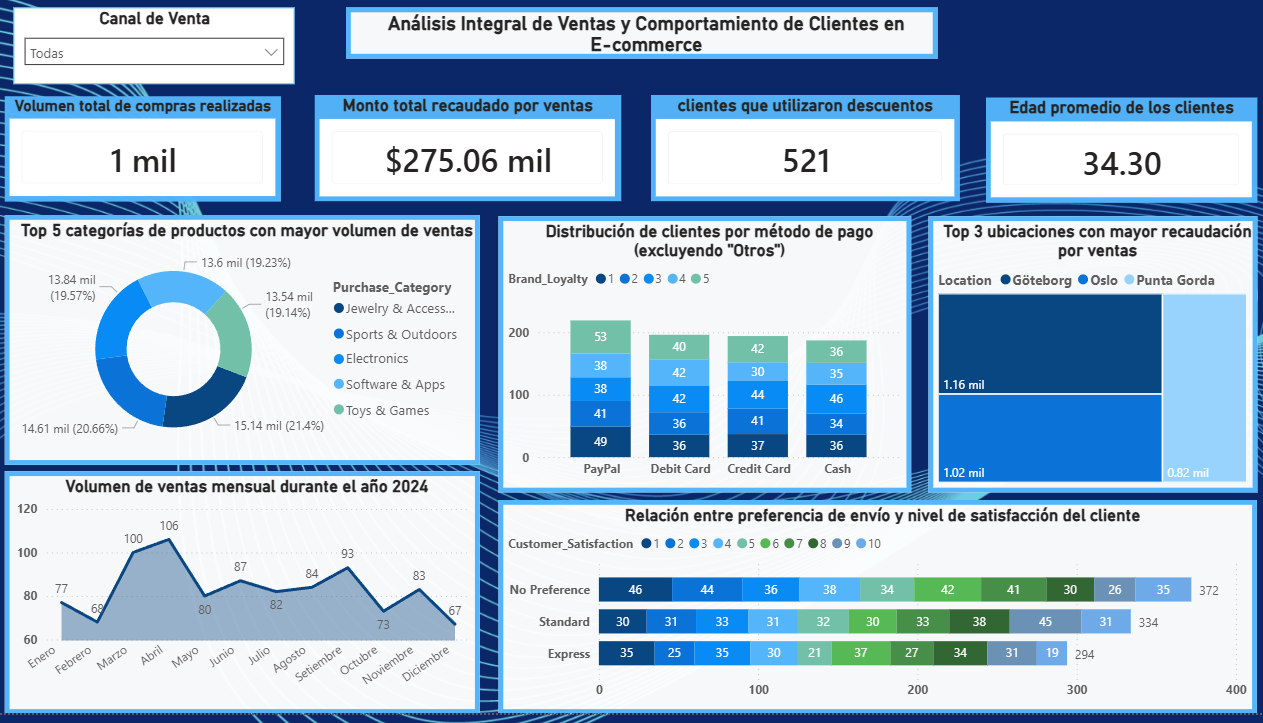

The page's visual inventory and layout, read from the dashboard file:
{"tool":"powerbi","page":{"name":"Analisis Ecommerce","canvas":[1280,720],"ordinal":0},"visuals":[{"type":"cardVisual","title":"Volumen total de compras realizadas","fields":{"Data":["ecommerce_amazon.consumidores"]},"box":[13.8,101.5,276.8,105.2],"z":0},{"type":"cardVisual","title":"Monto total recaudado por ventas","fields":{"Data":["ecommerce_amazon.recaudacion"]},"box":[324.4,100.2,306.9,106.5],"z":1000},{"type":"cardVisual","title":" clientes que utilizaron descuentos","fields":{"Data":["ecommerce_amazon.cantidad_descuento"]},"box":[661.4,100.2,309.4,106.5],"z":2000},{"type":"cardVisual","title":"Edad promedio de los clientes","fields":{"Data":["ecommerce_amazon.promedio_edad"]},"box":[997.1,102.7,271.8,105.2],"z":2001},{"type":"donutChart","title":"Top 5 categorías de productos con mayor volumen de ventas","fields":{"Category":["ecommerce_amazon.Purchase_Category"],"Y":["ecommerce_amazon.recaudacion"]},"box":[13.8,220.5,476,250.5],"z":2002},{"type":"lineChart","title":"Volumen de ventas mensual durante el año 2024","fields":{"Category":["ecommerce_amazon.Time_of_Purchase.Variación.Jerarquía de fechas.Mes"],"Y":["ecommerce_amazon.consumidores"]},"box":[13.8,477.3,476,243],"z":2003},{"type":"columnChart","title":"Distribución de clientes por método de pago (excluyendo \"Otros\")","fields":{"Category":["ecommerce_amazon.Payment_Method"],"Y":["ecommerce_amazon.consumidores"],"Series":["ecommerce_amazon.Brand_Loyalty"]},"box":[508.6,221.7,413.4,276.8],"z":2004},{"type":"barChart","title":"Relación entre preferencia de envío y nivel de satisfacción del cliente","fields":{"Category":["ecommerce_amazon.Shipping_Preference"],"Y":["ecommerce_amazon.consumidores"],"Series":["ecommerce_amazon.Customer_Satisfaction"]},"box":[508.6,506.1,760.4,214.2],"z":2005},{"type":"treemap","title":"Top 3 ubicaciones con mayor recaudación por ventas","fields":{"Group":["ecommerce_amazon.Location"],"Values":["ecommerce_amazon.recaudacion"]},"box":[939.5,221.7,329.5,276.8],"z":2006},{"type":"textbox","title":"Análisis Integral de Ventas y Comportamiento de Clientes en E-commerce","box":[355.8,12.5,592.5,51.4],"z":2007},{"type":"slicer","title":"Canal de Venta","fields":{"Values":["ecommerce_amazon.Purchase_Channel"]},"box":[22.5,12.5,281.9,76.4],"z":2008}]}

Visuals, with their boxes in screenshot pixels (x1, y1, x2, y2), scaled from the page's 1280x720 canvas onto the 1263x723 screenshot:
"Volumen total de compras realizadas" cardVisual: [14, 102, 287, 208]
"Monto total recaudado por ventas" cardVisual: [320, 101, 623, 208]
" clientes que utilizaron descuentos" cardVisual: [653, 101, 958, 208]
"Edad promedio de los clientes" cardVisual: [984, 103, 1252, 209]
"Top 5 categorías de productos con mayor volumen de ventas" donutChart: [14, 221, 483, 473]
"Volumen de ventas mensual durante el año 2024" lineChart: [14, 479, 483, 722]
"Distribución de clientes por método de pago (excluyendo "Otros")" columnChart: [502, 223, 910, 501]
"Relación entre preferencia de envío y nivel de satisfacción del cliente" barChart: [502, 508, 1252, 722]
"Top 3 ubicaciones con mayor recaudación por ventas" treemap: [927, 223, 1252, 501]
"Análisis Integral de Ventas y Comportamiento de Clientes en E-commerce" textbox: [351, 13, 936, 64]
"Canal de Venta" slicer: [22, 13, 300, 89]
